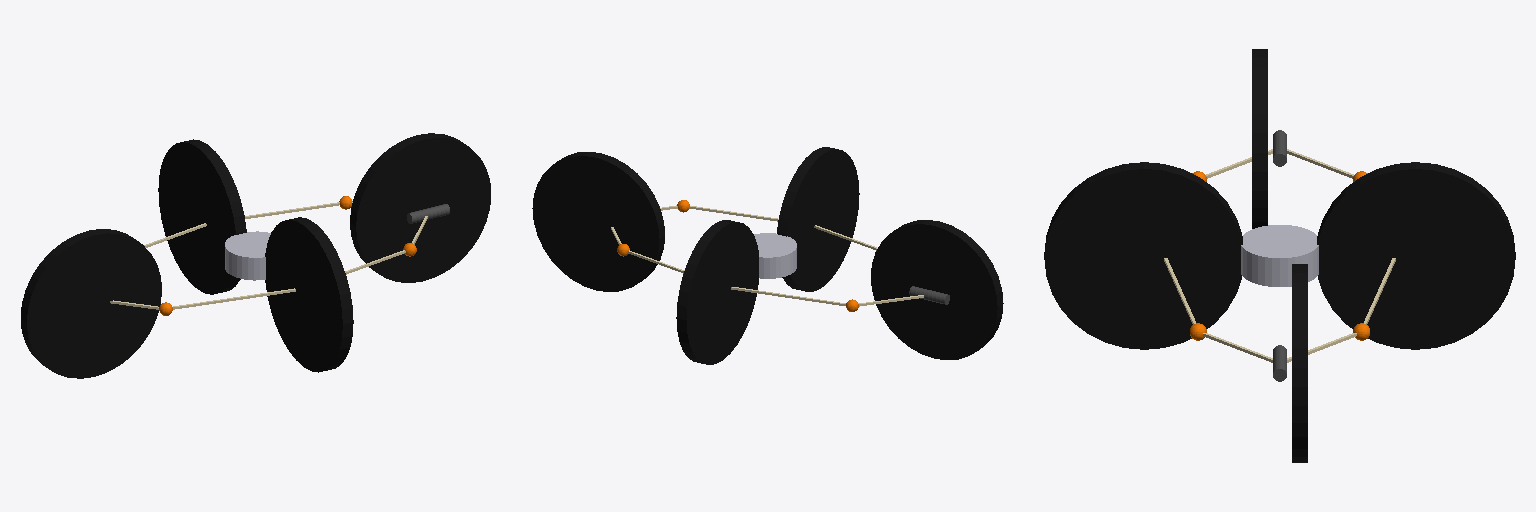
URDF robot description (goat_rover):
<?xml version="1.0"?>
<!--
GOAT Robot — Configuration ROVER (aspect ratio r=2.2)
Polzin et al., Sci. Robot. 10, eadp6419 (2025)

VERSION 3 — corrections physiques:
  - Connecteurs: revolute verrouillé (kp=1e6 Python) → accessibles via get_link()
  - Segments FG: box size="L 0.008 0.008" + rpy="0 0 angle" CORRECT dans plan XY
    Masses/inerties issues des formules cylindre FG ø5mm, ρ=2000 kg/m³
  - Roues Y: offset corrigé en Y (était X), axe X correct
  - Payload: cylindre aplati fidèle au paper
  - Raideur pivots: kp=3 N·m/rad en Python (EI/L fibre de verre 5mm)
  - PD motors: kp=300, kv=30, force_range=±4.41 N·m (paper: 45 kg·cm)

Masses (paper Table 1, total 2.80 kg):
  payload       1.800 kg
  4× connector  0.120 kg  (moteur WP + chevron FG)
  4× pivot      0.020 kg  (jonction FG flexible)
  4× roue       0.110 kg  (10 rayons FG 8mm + hub)
  8× segment    0.004 kg  (tiges FG ø5mm anneau)
  TOTAL         2.804 kg ≈ 2.80 kg ✓
-->

<robot name="goat_rover">

  <!-- ══════════════════════════════════════
       PAYLOAD — cylindre central 1.80 kg
  ══════════════════════════════════════ -->
  <link name="base_link">
    <inertial>
      <origin xyz="0 0 0" rpy="0 0 0"/>
      <mass value="1.8"/>
      <!-- cylindre r=0.10m h=0.08m
           Ixx=Iyy = m/4*r² + m/12*h² = 0.0045+0.00096 = 0.00546
           Izz = m/2*r² = 0.009 -->
      <inertia ixx="0.005460" ixy="0" ixz="0"
               iyy="0.005460" iyz="0"
               izz="0.009000"/>
    </inertial>
    <visual>
      <origin xyz="0 0 0" rpy="0 0 0"/>
      <geometry><cylinder radius="0.10" length="0.08"/></geometry>
      <material name="silver"><color rgba="0.75 0.75 0.80 1.0"/></material>
    </visual>
    <collision>
      <origin xyz="0 0 0" rpy="0 0 0"/>
      <geometry><cylinder radius="0.10" length="0.08"/></geometry>
    </collision>
  </link>

  <!-- ══════════════════════════════════════
       CONNECTEURS ×4 — revolute verrouillé
       Joint type=revolute limit=[0,0]
       → Genesis garde le lien dans l'arbre
       → rendu rigide en Python: kp=1e6 N·m/rad
  ══════════════════════════════════════ -->

  <link name="connector_X_pos">
    <inertial>
      <origin xyz="0 0 0" rpy="0 0 0"/>
      <mass value="0.12"/>
      <!-- cylindre ø36mm L=140mm axe X
           Ixx(spin)=m/2*r²=0.12/2*0.018²=1.944e-5
           Iyy=Izz=m/4*r²+m/12*L²=8.748e-6+1.96e-4=2.047e-4 -->
      <inertia ixx="0.000019" ixy="0" ixz="0"
               iyy="0.000205" iyz="0"
               izz="0.000205"/>
    </inertial>
    <visual>
      <origin xyz="0 0 0" rpy="0 1.5708 0"/>
      <geometry><cylinder radius="0.018" length="0.14"/></geometry>
      <material name="gray"><color rgba="0.35 0.35 0.35 1.0"/></material>
    </visual>
    <collision>
      <origin xyz="0 0 0" rpy="0 1.5708 0"/>
      <geometry><cylinder radius="0.018" length="0.14"/></geometry>
    </collision>
  </link>
  <joint name="joint_connector_X_pos" type="revolute">
    <parent link="base_link"/>
    <child link="connector_X_pos"/>
    <origin xyz="0.6366 0.0 0.0" rpy="0 0 0"/>
    <axis xyz="0 0 1"/>
    <limit lower="0.0" upper="0.0" effort="0.0" velocity="0.0"/>
    <dynamics damping="1000.0" friction="0.0"/>
  </joint>

  <link name="connector_X_neg">
    <inertial>
      <origin xyz="0 0 0" rpy="0 0 0"/>
      <mass value="0.12"/>
      <inertia ixx="0.000019" ixy="0" ixz="0"
               iyy="0.000205" iyz="0"
               izz="0.000205"/>
    </inertial>
    <visual>
      <origin xyz="0 0 0" rpy="0 1.5708 0"/>
      <geometry><cylinder radius="0.018" length="0.14"/></geometry>
      <material name="gray"/>
    </visual>
    <collision>
      <origin xyz="0 0 0" rpy="0 1.5708 0"/>
      <geometry><cylinder radius="0.018" length="0.14"/></geometry>
    </collision>
  </link>
  <joint name="joint_connector_X_neg" type="revolute">
    <parent link="base_link"/>
    <child link="connector_X_neg"/>
    <origin xyz="-0.6366 0.0 0.0" rpy="0 0 0"/>
    <axis xyz="0 0 1"/>
    <limit lower="0.0" upper="0.0" effort="0.0" velocity="0.0"/>
    <dynamics damping="1000.0" friction="0.0"/>
  </joint>

  <link name="connector_Y_pos">
    <inertial>
      <origin xyz="0 0 0" rpy="0 0 0"/>
      <mass value="0.12"/>
      <inertia ixx="0.000205" ixy="0" ixz="0"
               iyy="0.000019" iyz="0"
               izz="0.000205"/>
    </inertial>
    <visual>
      <origin xyz="0 0 0" rpy="1.5708 0 0"/>
      <geometry><cylinder radius="0.018" length="0.14"/></geometry>
      <material name="gray"/>
    </visual>
    <collision>
      <origin xyz="0 0 0" rpy="1.5708 0 0"/>
      <geometry><cylinder radius="0.018" length="0.14"/></geometry>
    </collision>
  </link>
  <joint name="joint_connector_Y_pos" type="revolute">
    <parent link="base_link"/>
    <child link="connector_Y_pos"/>
    <origin xyz="0.0 0.2894 0.0" rpy="0 0 0"/>
    <axis xyz="0 0 1"/>
    <limit lower="0.0" upper="0.0" effort="0.0" velocity="0.0"/>
    <dynamics damping="1000.0" friction="0.0"/>
  </joint>

  <link name="connector_Y_neg">
    <inertial>
      <origin xyz="0 0 0" rpy="0 0 0"/>
      <mass value="0.12"/>
      <inertia ixx="0.000205" ixy="0" ixz="0"
               iyy="0.000019" iyz="0"
               izz="0.000205"/>
    </inertial>
    <visual>
      <origin xyz="0 0 0" rpy="1.5708 0 0"/>
      <geometry><cylinder radius="0.018" length="0.14"/></geometry>
      <material name="gray"/>
    </visual>
    <collision>
      <origin xyz="0 0 0" rpy="1.5708 0 0"/>
      <geometry><cylinder radius="0.018" length="0.14"/></geometry>
    </collision>
  </link>
  <joint name="joint_connector_Y_neg" type="revolute">
    <parent link="base_link"/>
    <child link="connector_Y_neg"/>
    <origin xyz="0.0 -0.2894 0.0" rpy="0 0 0"/>
    <axis xyz="0 0 1"/>
    <limit lower="0.0" upper="0.0" effort="0.0" velocity="0.0"/>
    <dynamics damping="1000.0" friction="0.0"/>
  </joint>

  <!-- ══════════════════════════════════════
       PIVOTS ×4 — revolute Z
       kp=3 N·m/rad, kv=0.5 N·m·s/rad (Python)
       EI/L = 45e9 * π*(0.0025)⁴/4 / 0.5 = 2.76 N·m/rad → arrondi 3
  ══════════════════════════════════════ -->

  <link name="pivot_XpYp">
    <inertial>
      <origin xyz="0 0 0" rpy="0 0 0"/>
      <mass value="0.02"/>
      <inertia ixx="1.6e-6" ixy="0" ixz="0"
               iyy="1.6e-6" iyz="0"
               izz="1.6e-6"/>
    </inertial>
    <visual>
      <geometry><sphere radius="0.022"/></geometry>
      <material name="orange"><color rgba="0.95 0.50 0.05 1.0"/></material>
    </visual>
    <collision>
      <geometry><sphere radius="0.022"/></geometry>
    </collision>
  </link>
  <joint name="joint_pivot_XpYp" type="revolute">
    <parent link="base_link"/>
    <child link="pivot_XpYp"/>
    <origin xyz="0.4502 0.2046 0.0" rpy="0 0 0"/>
    <axis xyz="0 0 1"/>
    <limit lower="-0.8" upper="0.8" effort="12.0" velocity="3.0"/>
    <dynamics damping="0.8" friction="0.02"/>
  </joint>

  <link name="pivot_XpYn">
    <inertial>
      <origin xyz="0 0 0" rpy="0 0 0"/>
      <mass value="0.02"/>
      <inertia ixx="1.6e-6" ixy="0" ixz="0"
               iyy="1.6e-6" iyz="0"
               izz="1.6e-6"/>
    </inertial>
    <visual>
      <geometry><sphere radius="0.022"/></geometry>
      <material name="orange"/>
    </visual>
    <collision>
      <geometry><sphere radius="0.022"/></geometry>
    </collision>
  </link>
  <joint name="joint_pivot_XpYn" type="revolute">
    <parent link="base_link"/>
    <child link="pivot_XpYn"/>
    <origin xyz="0.4502 -0.2046 0.0" rpy="0 0 0"/>
    <axis xyz="0 0 1"/>
    <limit lower="-0.8" upper="0.8" effort="12.0" velocity="3.0"/>
    <dynamics damping="0.8" friction="0.02"/>
  </joint>

  <link name="pivot_XnYp">
    <inertial>
      <origin xyz="0 0 0" rpy="0 0 0"/>
      <mass value="0.02"/>
      <inertia ixx="1.6e-6" ixy="0" ixz="0"
               iyy="1.6e-6" iyz="0"
               izz="1.6e-6"/>
    </inertial>
    <visual>
      <geometry><sphere radius="0.022"/></geometry>
      <material name="orange"/>
    </visual>
    <collision>
      <geometry><sphere radius="0.022"/></geometry>
    </collision>
  </link>
  <joint name="joint_pivot_XnYp" type="revolute">
    <parent link="base_link"/>
    <child link="pivot_XnYp"/>
    <origin xyz="-0.4502 0.2046 0.0" rpy="0 0 0"/>
    <axis xyz="0 0 1"/>
    <limit lower="-0.8" upper="0.8" effort="12.0" velocity="3.0"/>
    <dynamics damping="0.8" friction="0.02"/>
  </joint>

  <link name="pivot_XnYn">
    <inertial>
      <origin xyz="0 0 0" rpy="0 0 0"/>
      <mass value="0.02"/>
      <inertia ixx="1.6e-6" ixy="0" ixz="0"
               iyy="1.6e-6" iyz="0"
               izz="1.6e-6"/>
    </inertial>
    <visual>
      <geometry><sphere radius="0.022"/></geometry>
      <material name="orange"/>
    </visual>
    <collision>
      <geometry><sphere radius="0.022"/></geometry>
    </collision>
  </link>
  <joint name="joint_pivot_XnYn" type="revolute">
    <parent link="base_link"/>
    <child link="pivot_XnYn"/>
    <origin xyz="-0.4502 -0.2046 0.0" rpy="0 0 0"/>
    <axis xyz="0 0 1"/>
    <limit lower="-0.8" upper="0.8" effort="12.0" velocity="3.0"/>
    <dynamics damping="0.8" friction="0.02"/>
  </joint>

  <!-- ══════════════════════════════════════
       SEGMENTS ANNEAU FG ×8 — joints fixed sur pivots
       Géométrie: box size="L 0.008 0.008" dans plan XY
       Orientation: rpy="0 0 angle" où angle=atan2(dy,dx) world
       Position: origin=midpoint dans frame pivot (= vecteur/2 depuis pivot)
       Masse: ρ_FG=2000 kg/m³, ø=5mm → m=ρ·π·r²·L
       Inertie (barre mince axe X local):
         Ixx = m·r²/2  (spin, négligeable)
         Iyy = Izz = m·(r²/4 + L²/12)

  pXpYp(0.4502,0.2046)→cXp(0.6366,0):   dx=0.1864 dy=-0.2046 L=0.2769 ang=-47.7°
  pXpYp(0.4502,0.2046)→cYp(0,0.2894):   dx=-0.4502 dy=0.0848  L=0.4581 ang=169.3°
  pXpYn(0.4502,-0.2046)→cXp(0.6366,0):  dx=0.1864 dy=0.2046  L=0.2769 ang=+47.7°
  pXpYn(0.4502,-0.2046)→cYn(0,-0.2894): dx=-0.4502 dy=-0.0848 L=0.4581 ang=-169.3°
  pXnYp(-0.4502,0.2046)→cXn(-0.6366,0): dx=-0.1864 dy=-0.2046 L=0.2769 ang=-132.3°
  pXnYp(-0.4502,0.2046)→cYp(0,0.2894):  dx=0.4502 dy=0.0848  L=0.4581 ang=+10.7°
  pXnYn(-0.4502,-0.2046)→cXn(-0.6366,0):dx=-0.1864 dy=0.2046  L=0.2769 ang=+132.3°
  pXnYn(-0.4502,-0.2046)→cYn(0,-0.2894):dx=0.4502 dy=-0.0848  L=0.4581 ang=-10.7°
  ══════════════════════════════════════ -->

  <!-- seg 1: pXpYp → cXp  L=0.2769m ang=-47.7°=-0.8328rad -->
  <link name="seg_XpYp_Xpos">
    <inertial>
      <origin xyz="0 0 0" rpy="0 0 0"/>
      <mass value="0.000393"/>
      <!-- Ixx(spin)=m*r²/2=1.2e-9, Iyy=Izz=m*(r²/4+L²/12)=2.24e-6 -->
      <inertia ixx="1.2e-9" ixy="0" ixz="0"
               iyy="2.24e-6" iyz="0"
               izz="2.24e-6"/>
    </inertial>
    <visual>
      <origin xyz="0.0932 -0.1023 0.0" rpy="0 0 -0.8328"/>
      <geometry><box size="0.2769 0.008 0.008"/></geometry>
      <material name="beige"><color rgba="0.87 0.82 0.68 1.0"/></material>
    </visual>
  </link>
  <joint name="joint_seg_XpYp_Xpos" type="fixed">
    <parent link="pivot_XpYp"/>
    <child link="seg_XpYp_Xpos"/>
    <origin xyz="0 0 0" rpy="0 0 0"/>
  </joint>

  <!-- seg 2: pXpYp → cYp  L=0.4581m ang=169.3°=2.9544rad -->
  <link name="seg_XpYp_Ypos">
    <inertial>
      <origin xyz="0 0 0" rpy="0 0 0"/>
      <mass value="0.000650"/>
      <inertia ixx="2.0e-9" ixy="0" ixz="0"
               iyy="6.10e-6" iyz="0"
               izz="6.10e-6"/>
    </inertial>
    <visual>
      <origin xyz="-0.2251 0.0424 0.0" rpy="0 0 2.9544"/>
      <geometry><box size="0.4581 0.008 0.008"/></geometry>
      <material name="beige"/>
    </visual>
  </link>
  <joint name="joint_seg_XpYp_Ypos" type="fixed">
    <parent link="pivot_XpYp"/>
    <child link="seg_XpYp_Ypos"/>
    <origin xyz="0 0 0" rpy="0 0 0"/>
  </joint>

  <!-- seg 3: pXpYn → cXp  L=0.2769m ang=+47.7°=+0.8328rad -->
  <link name="seg_XpYn_Xpos">
    <inertial>
      <origin xyz="0 0 0" rpy="0 0 0"/>
      <mass value="0.000393"/>
      <inertia ixx="1.2e-9" ixy="0" ixz="0"
               iyy="2.24e-6" iyz="0"
               izz="2.24e-6"/>
    </inertial>
    <visual>
      <origin xyz="0.0932 0.1023 0.0" rpy="0 0 0.8328"/>
      <geometry><box size="0.2769 0.008 0.008"/></geometry>
      <material name="beige"/>
    </visual>
  </link>
  <joint name="joint_seg_XpYn_Xpos" type="fixed">
    <parent link="pivot_XpYn"/>
    <child link="seg_XpYn_Xpos"/>
    <origin xyz="0 0 0" rpy="0 0 0"/>
  </joint>

  <!-- seg 4: pXpYn → cYn  L=0.4581m ang=-169.3°=-2.9544rad -->
  <link name="seg_XpYn_Yneg">
    <inertial>
      <origin xyz="0 0 0" rpy="0 0 0"/>
      <mass value="0.000650"/>
      <inertia ixx="2.0e-9" ixy="0" ixz="0"
               iyy="6.10e-6" iyz="0"
               izz="6.10e-6"/>
    </inertial>
    <visual>
      <origin xyz="-0.2251 -0.0424 0.0" rpy="0 0 -2.9544"/>
      <geometry><box size="0.4581 0.008 0.008"/></geometry>
      <material name="beige"/>
    </visual>
  </link>
  <joint name="joint_seg_XpYn_Yneg" type="fixed">
    <parent link="pivot_XpYn"/>
    <child link="seg_XpYn_Yneg"/>
    <origin xyz="0 0 0" rpy="0 0 0"/>
  </joint>

  <!-- seg 5: pXnYp → cXn  L=0.2769m ang=-132.3°=-2.3088rad -->
  <link name="seg_XnYp_Xneg">
    <inertial>
      <origin xyz="0 0 0" rpy="0 0 0"/>
      <mass value="0.000393"/>
      <inertia ixx="1.2e-9" ixy="0" ixz="0"
               iyy="2.24e-6" iyz="0"
               izz="2.24e-6"/>
    </inertial>
    <visual>
      <origin xyz="-0.0932 -0.1023 0.0" rpy="0 0 -2.3088"/>
      <geometry><box size="0.2769 0.008 0.008"/></geometry>
      <material name="beige"/>
    </visual>
  </link>
  <joint name="joint_seg_XnYp_Xneg" type="fixed">
    <parent link="pivot_XnYp"/>
    <child link="seg_XnYp_Xneg"/>
    <origin xyz="0 0 0" rpy="0 0 0"/>
  </joint>

  <!-- seg 6: pXnYp → cYp  L=0.4581m ang=+10.7°=+0.1868rad -->
  <link name="seg_XnYp_Ypos">
    <inertial>
      <origin xyz="0 0 0" rpy="0 0 0"/>
      <mass value="0.000650"/>
      <inertia ixx="2.0e-9" ixy="0" ixz="0"
               iyy="6.10e-6" iyz="0"
               izz="6.10e-6"/>
    </inertial>
    <visual>
      <origin xyz="0.2251 0.0424 0.0" rpy="0 0 0.1868"/>
      <geometry><box size="0.4581 0.008 0.008"/></geometry>
      <material name="beige"/>
    </visual>
  </link>
  <joint name="joint_seg_XnYp_Ypos" type="fixed">
    <parent link="pivot_XnYp"/>
    <child link="seg_XnYp_Ypos"/>
    <origin xyz="0 0 0" rpy="0 0 0"/>
  </joint>

  <!-- seg 7: pXnYn → cXn  L=0.2769m ang=+132.3°=+2.3088rad -->
  <link name="seg_XnYn_Xneg">
    <inertial>
      <origin xyz="0 0 0" rpy="0 0 0"/>
      <mass value="0.000393"/>
      <inertia ixx="1.2e-9" ixy="0" ixz="0"
               iyy="2.24e-6" iyz="0"
               izz="2.24e-6"/>
    </inertial>
    <visual>
      <origin xyz="-0.0932 0.1023 0.0" rpy="0 0 2.3088"/>
      <geometry><box size="0.2769 0.008 0.008"/></geometry>
      <material name="beige"/>
    </visual>
  </link>
  <joint name="joint_seg_XnYn_Xneg" type="fixed">
    <parent link="pivot_XnYn"/>
    <child link="seg_XnYn_Xneg"/>
    <origin xyz="0 0 0" rpy="0 0 0"/>
  </joint>

  <!-- seg 8: pXnYn → cYn  L=0.4581m ang=-10.7°=-0.1868rad -->
  <link name="seg_XnYn_Yneg">
    <inertial>
      <origin xyz="0 0 0" rpy="0 0 0"/>
      <mass value="0.000650"/>
      <inertia ixx="2.0e-9" ixy="0" ixz="0"
               iyy="6.10e-6" iyz="0"
               izz="6.10e-6"/>
    </inertial>
    <visual>
      <origin xyz="0.2251 -0.0424 0.0" rpy="0 0 -0.1868"/>
      <geometry><box size="0.4581 0.008 0.008"/></geometry>
      <material name="beige"/>
    </visual>
  </link>
  <joint name="joint_seg_XnYn_Yneg" type="fixed">
    <parent link="pivot_XnYn"/>
    <child link="seg_XnYn_Yneg"/>
    <origin xyz="0 0 0" rpy="0 0 0"/>
  </joint>

  <!-- ══════════════════════════════════════
       ROUES ×4 — continuous
       Paper: 10 rayons FG 8mm, L=25cm, hub 3D
       Modèle: cylindre r=0.25m, h=0.04m, m=0.11kg
       Ixx=Izz=m/4*r²+m/12*h²=0.001734 (axes perpendiculaires)
       Iyy=m/2*r²=0.003438 (axe de spin)

       OFFSET ±0.05m depuis connecteur:
         wheel_X_*: offset en ±Y (axe de spin = Y, avance selon X)
         wheel_Y_*: offset en ±Y (axe de spin = X, skid passif)
  ══════════════════════════════════════ -->

  <link name="wheel_X_pos">
    <inertial>
      <origin xyz="0 0 0" rpy="0 0 0"/>
      <mass value="0.11"/>
      <inertia ixx="0.001734" ixy="0" ixz="0"
               iyy="0.003438" iyz="0"
               izz="0.001734"/>
    </inertial>
    <visual>
      <origin xyz="0 0 0" rpy="1.5708 0 0"/>
      <geometry><cylinder radius="0.25" length="0.04"/></geometry>
      <material name="dark"><color rgba="0.12 0.12 0.12 1.0"/></material>
    </visual>
    <collision>
      <origin xyz="0 0 0" rpy="1.5708 0 0"/>
      <geometry><cylinder radius="0.25" length="0.04"/></geometry>
    </collision>
  </link>
  <joint name="wheel_joint_X_pos" type="continuous">
    <parent link="connector_X_pos"/>
    <child link="wheel_X_pos"/>
    <origin xyz="0.0 0.05 0.0" rpy="0 0 0"/>
    <axis xyz="0 1 0"/>
    <dynamics damping="0.04" friction="0.01"/>
  </joint>

  <link name="wheel_X_neg">
    <inertial>
      <origin xyz="0 0 0" rpy="0 0 0"/>
      <mass value="0.11"/>
      <inertia ixx="0.001734" ixy="0" ixz="0"
               iyy="0.003438" iyz="0"
               izz="0.001734"/>
    </inertial>
    <visual>
      <origin xyz="0 0 0" rpy="1.5708 0 0"/>
      <geometry><cylinder radius="0.25" length="0.04"/></geometry>
      <material name="dark"/>
    </visual>
    <collision>
      <origin xyz="0 0 0" rpy="1.5708 0 0"/>
      <geometry><cylinder radius="0.25" length="0.04"/></geometry>
    </collision>
  </link>
  <joint name="wheel_joint_X_neg" type="continuous">
    <parent link="connector_X_neg"/>
    <child link="wheel_X_neg"/>
    <origin xyz="0.0 -0.05 0.0" rpy="0 0 0"/>
    <axis xyz="0 1 0"/>
    <dynamics damping="0.04" friction="0.01"/>
  </joint>

  <link name="wheel_Y_pos">
    <inertial>
      <origin xyz="0 0 0" rpy="0 0 0"/>
      <mass value="0.11"/>
      <inertia ixx="0.003438" ixy="0" ixz="0"
               iyy="0.001734" iyz="0"
               izz="0.001734"/>
    </inertial>
    <visual>
      <origin xyz="0 0 0" rpy="0 1.5708 0"/>
      <geometry><cylinder radius="0.25" length="0.04"/></geometry>
      <material name="dark"/>
    </visual>
    <collision>
      <origin xyz="0 0 0" rpy="0 1.5708 0"/>
      <geometry><cylinder radius="0.25" length="0.04"/></geometry>
    </collision>
  </link>
  <joint name="wheel_joint_Y_pos" type="continuous">
    <parent link="connector_Y_pos"/>
    <child link="wheel_Y_pos"/>
    <!-- FIX v3: offset en Y (axe normal à la roue), pas X -->
    <origin xyz="0.0 0.05 0.0" rpy="0 0 0"/>
    <axis xyz="1 0 0"/>
    <dynamics damping="0.04" friction="0.01"/>
  </joint>

  <link name="wheel_Y_neg">
    <inertial>
      <origin xyz="0 0 0" rpy="0 0 0"/>
      <mass value="0.11"/>
      <inertia ixx="0.003438" ixy="0" ixz="0"
               iyy="0.001734" iyz="0"
               izz="0.001734"/>
    </inertial>
    <visual>
      <origin xyz="0 0 0" rpy="0 1.5708 0"/>
      <geometry><cylinder radius="0.25" length="0.04"/></geometry>
      <material name="dark"/>
    </visual>
    <collision>
      <origin xyz="0 0 0" rpy="0 1.5708 0"/>
      <geometry><cylinder radius="0.25" length="0.04"/></geometry>
    </collision>
  </link>
  <joint name="wheel_joint_Y_neg" type="continuous">
    <parent link="connector_Y_neg"/>
    <child link="wheel_Y_neg"/>
    <!-- FIX v3: offset en -Y -->
    <origin xyz="0.0 -0.05 0.0" rpy="0 0 0"/>
    <axis xyz="1 0 0"/>
    <dynamics damping="0.04" friction="0.01"/>
  </joint>

</robot>

--- Facts derived from the render (not from the file) ---
The picture shows the robot from 3 angles, left to right: view 1: azimuth 30°, elevation 25°; view 2: azimuth 150°, elevation 25°; view 3: azimuth 270°, elevation 25°; orthographic projection.
Model goat_rover with 21 links and 20 joints (8 revolute, 4 continuous, 8 fixed), rooted at base_link, posed all joints at 0.
Links seen in each view (by area): view 1: wheel_X_neg, wheel_X_pos, wheel_Y_neg, wheel_Y_pos, base_link; view 2: wheel_X_pos, wheel_X_neg, wheel_Y_pos, wheel_Y_neg, base_link; view 3: wheel_Y_pos, wheel_Y_neg, base_link, wheel_X_pos, wheel_X_neg.
Boxes of the visible links, x1,y1,x2,y2 form: wheel_X_neg: (21,229,161,378); wheel_X_pos: (350,133,490,282); wheel_Y_neg: (265,217,353,372); wheel_Y_pos: (158,139,246,294); base_link: (225,231,270,280); wheel_X_pos: (532,152,664,291); wheel_X_neg: (871,220,1003,359); wheel_Y_pos: (676,220,758,364); wheel_Y_neg: (777,147,859,291); base_link: (754,233,796,278); wheel_Y_pos: (1317,162,1515,349); wheel_Y_neg: (1044,162,1242,349); base_link: (1241,225,1318,286); wheel_X_pos: (1292,264,1307,462); wheel_X_neg: (1252,49,1267,228).
Bounding box of the posed robot: 1.77 × 1.18 × 0.5 m (x, y, z).
Geometry: primitives only (box / cylinder / sphere), no mesh files.
